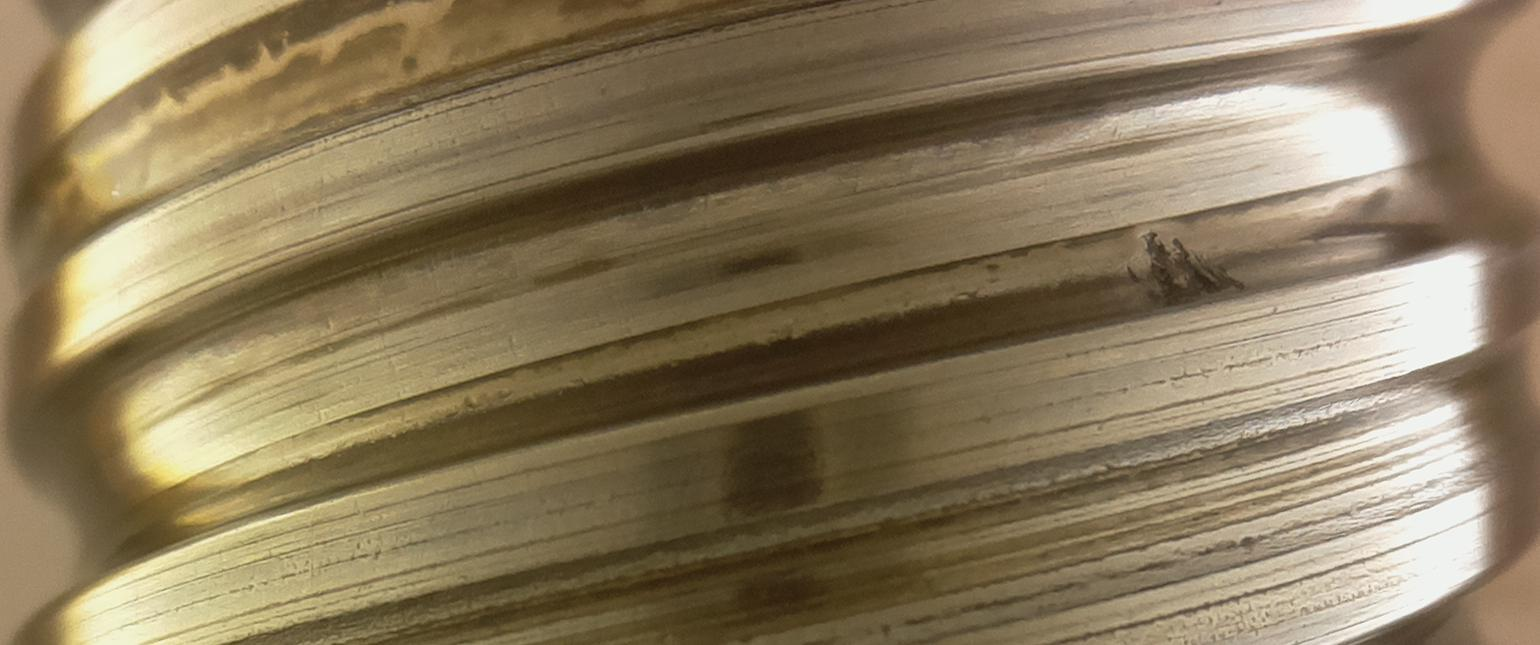pitting: (1126, 232, 1245, 306)
